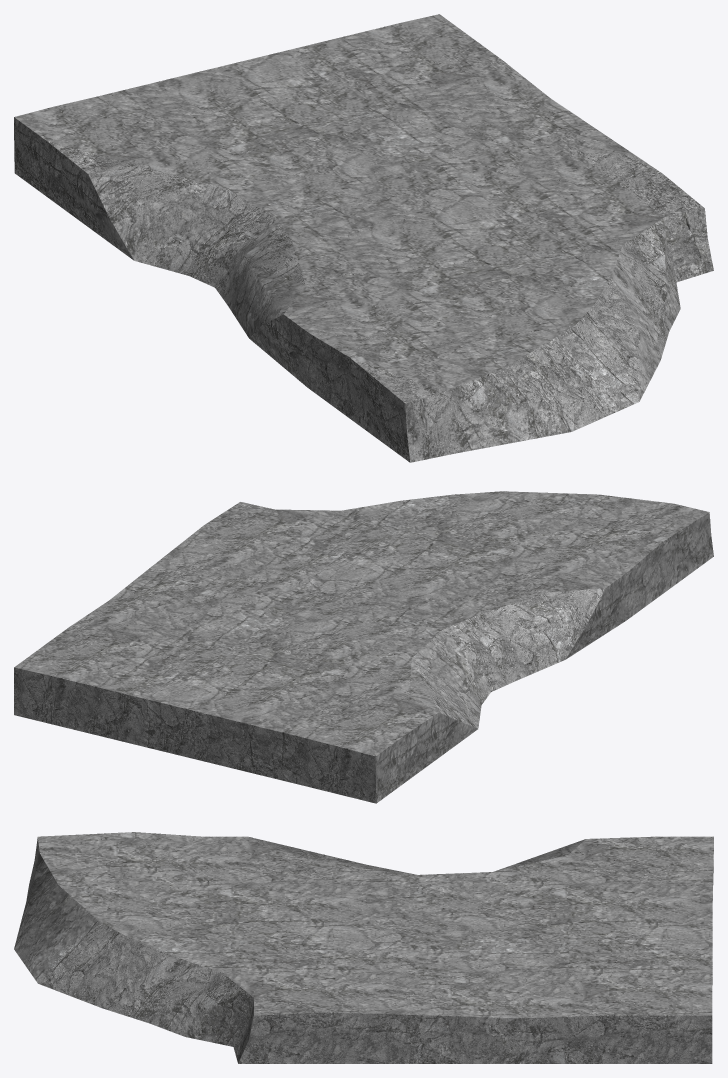
File: materials_3_road_11.fbx
The picture shows the model from 3 angles, top to bottom: view 1: azimuth 30°, elevation 25°; view 2: azimuth 150°, elevation 25°; view 3: azimuth 270°, elevation 25°; orthographic projection. The views are drawn at different scales.
Parts seen in each view (by area): view 1: materials_3_road_11; view 2: materials_3_road_11; view 3: materials_3_road_11.
Boxes of the visible parts, box(x1,y1,x2,y2) form: materials_3_road_11: box(14, 14, 713, 462); materials_3_road_11: box(14, 491, 713, 803); materials_3_road_11: box(14, 832, 713, 1063).
Bounding box in the file's own units: 235 × 32.09 × 386.
